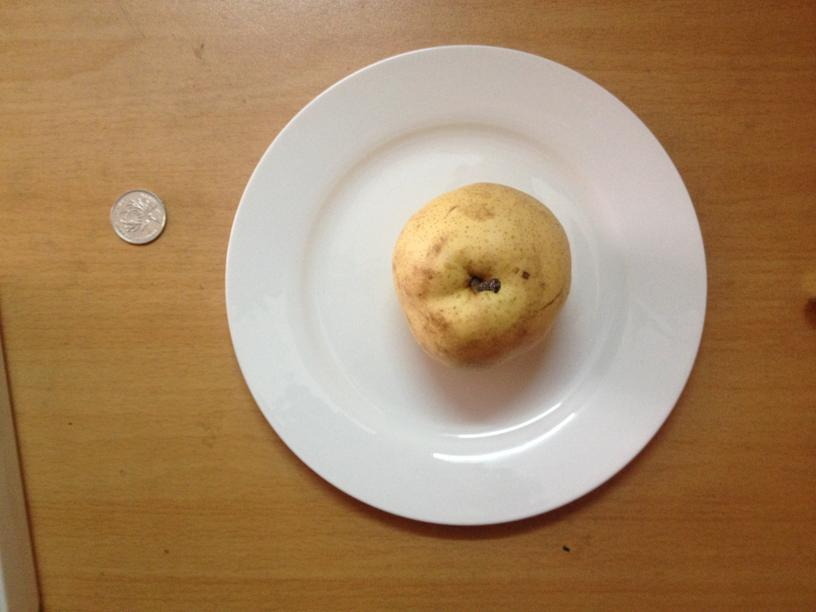coin: (106, 188, 167, 244)
pear: (394, 182, 573, 369)
